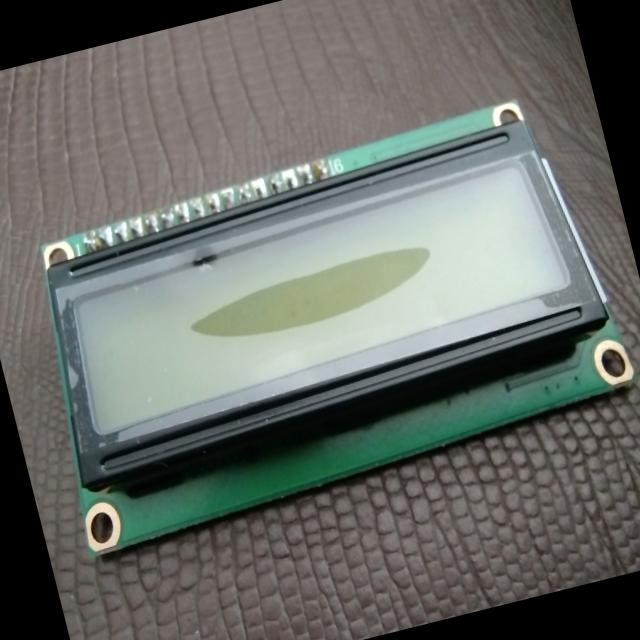lcd: (6, 86, 640, 558)
